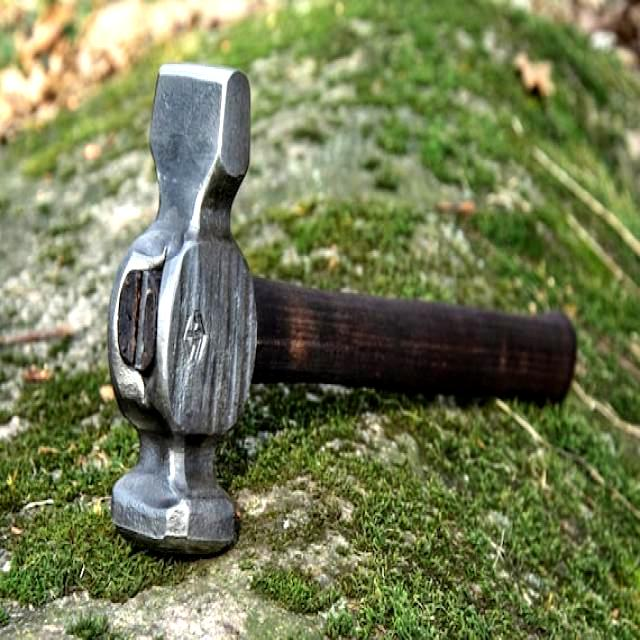hammer: (102, 49, 582, 563)
